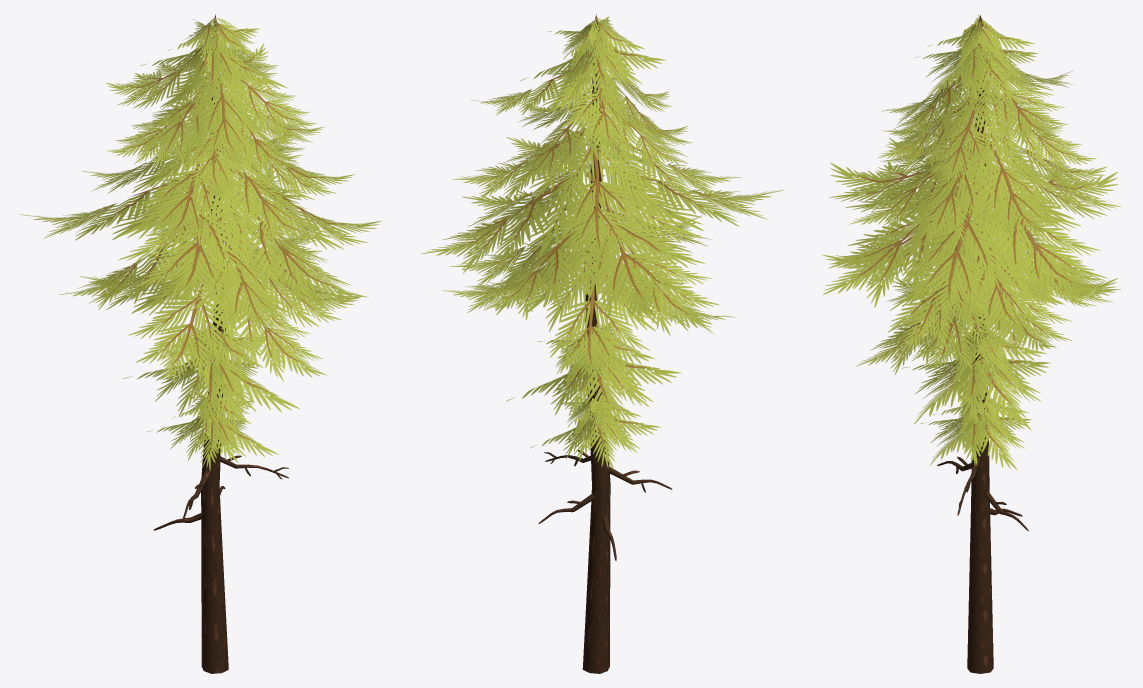
The model's file is PineTree_2.glb.
3 renders of one model, left to right at view 1: azimuth 30°, elevation 25°; view 2: azimuth 150°, elevation 25°; view 3: azimuth 270°, elevation 25°, orthographic.
Parts seen in each view (by area): view 1: PineTree_2; view 2: PineTree_2; view 3: PineTree_2.
Part boxes in pixels (x1=…): PineTree_2: x1=19, y1=14, x2=381, y2=673; PineTree_2: x1=421, y1=14, x2=783, y2=673; PineTree_2: x1=822, y1=14, x2=1121, y2=673.
Size of the model in its own units: 3.28 by 6.91 by 2.98.
Materials: 2 (2 with a texture image).
